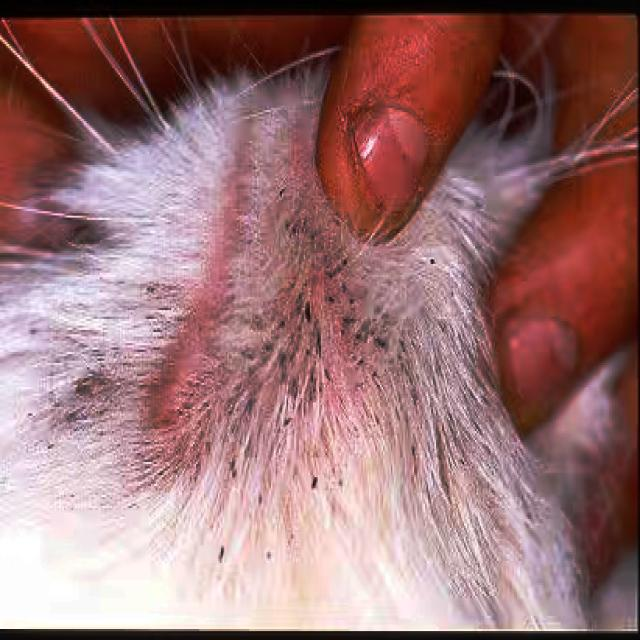acne: (212, 166, 350, 570)
